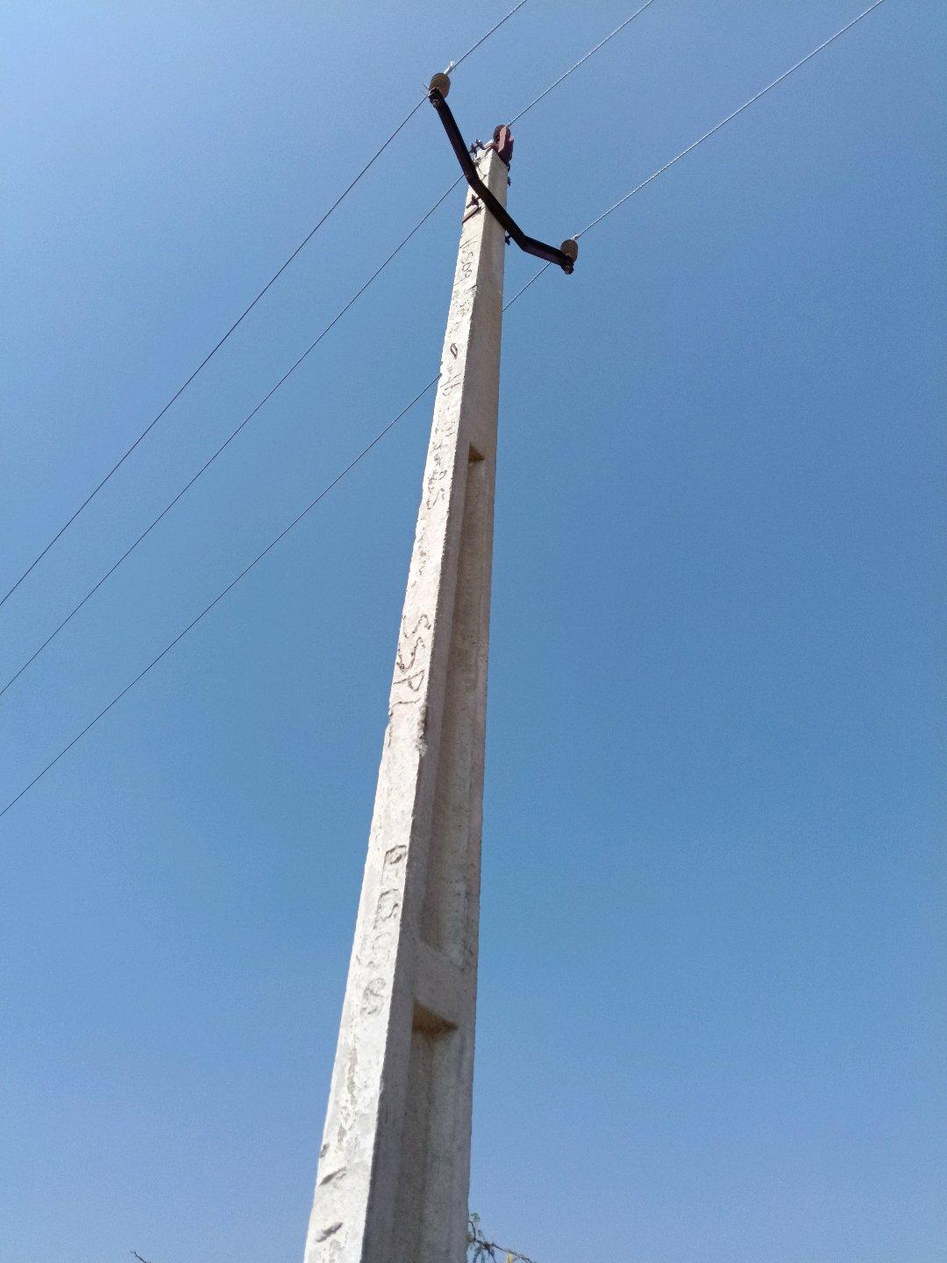{"0" "insulator", "1" "pole", "2" "crossarm", "3" "conductor", "4" "street_: (303, 73, 578, 1262), (637, 185, 640, 190)
